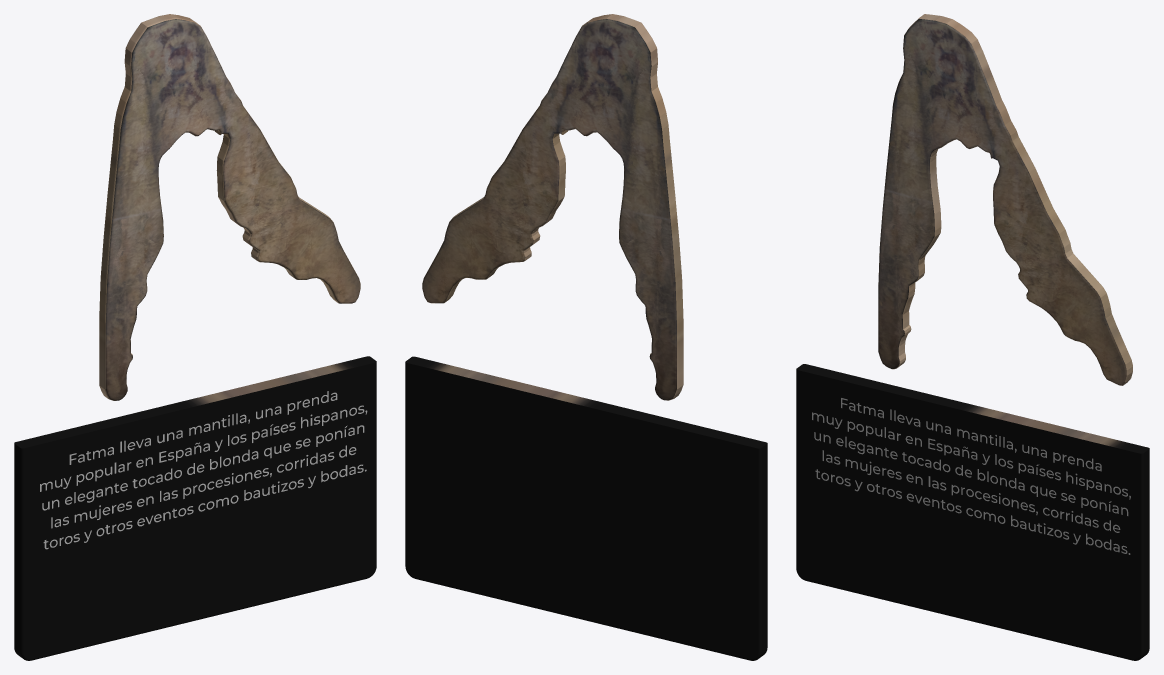
Rendered from Slide5.glb.
3 views of the same model, side by side, from view 1: azimuth 30°, elevation 25°; view 2: azimuth 150°, elevation 25°; view 3: azimuth 330°, elevation 25° (orthographic). The views are drawn at different scales.
Parts seen in each view (by area): view 1: Slide2; view 2: Slide2; view 3: Slide2.
Boxes of the visible parts, x1,y1,x2,y2 form: Slide2: [14, 14, 376, 660]; Slide2: [405, 14, 767, 660]; Slide2: [796, 14, 1149, 660].
Bounding box in the file's own units: 1.49 × 2.43 × 0.0659.
2 materials, 2 textured.
